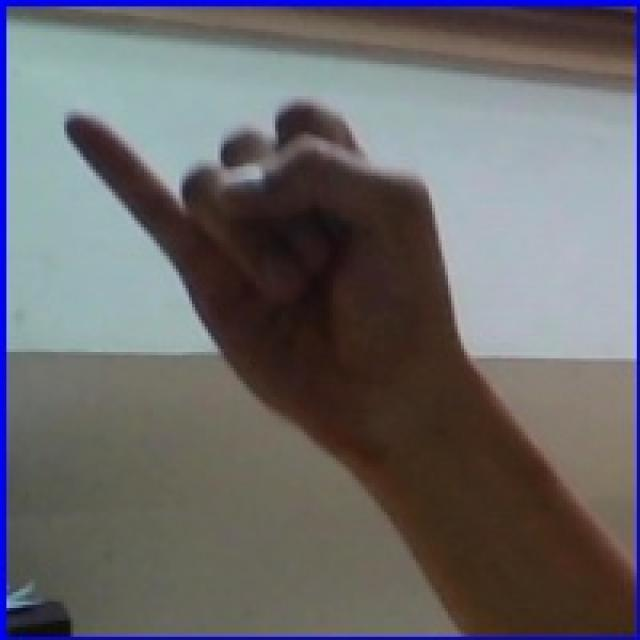J: (29, 47, 549, 478)
